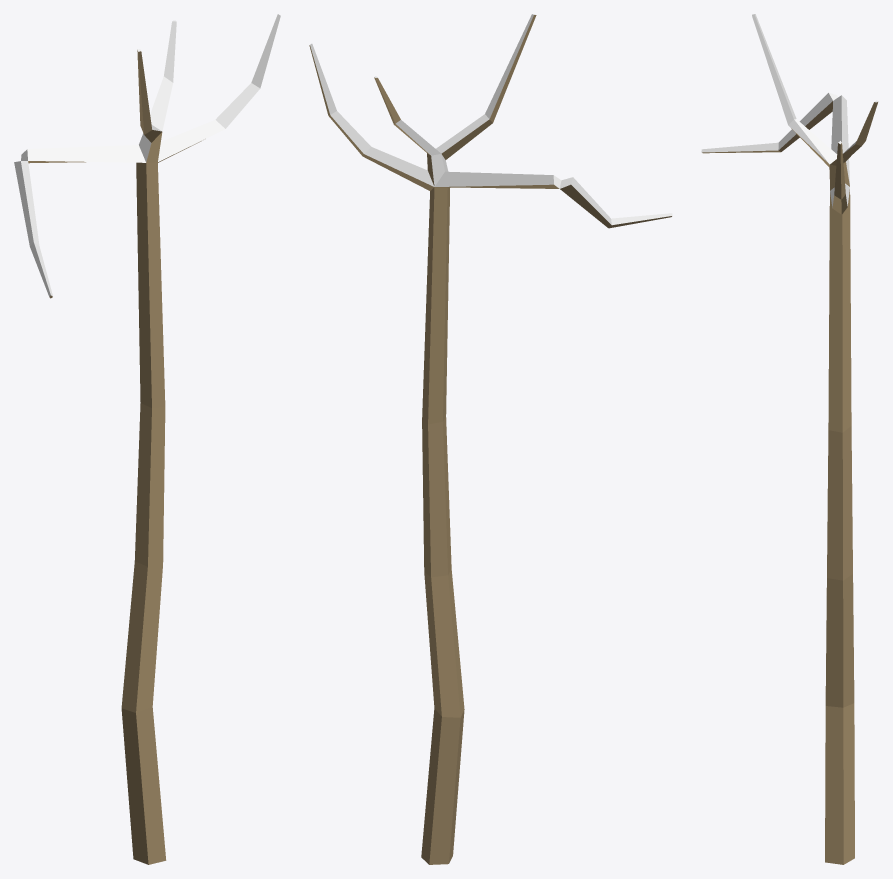
The model's file is Acacia_Tree_NoLeaves_crk_m_Snow_02_LOD.fbx.
The picture shows the model from 3 angles, left to right: view 1: azimuth 30°, elevation 25°; view 2: azimuth 150°, elevation 25°; view 3: azimuth 270°, elevation 25°; orthographic projection. The views are drawn at different scales.
Parts seen in each view (by area): view 1: Acacia_Tree_NoLeaves_crk_m_Snow_02_LOD0; view 2: Acacia_Tree_NoLeaves_crk_m_Snow_02_LOD0; view 3: Acacia_Tree_NoLeaves_crk_m_Snow_02_LOD0.
Part boxes in pixels (x1,y1,x2,y2): Acacia_Tree_NoLeaves_crk_m_Snow_02_LOD0: [14, 14, 280, 864]; Acacia_Tree_NoLeaves_crk_m_Snow_02_LOD0: [309, 14, 672, 864]; Acacia_Tree_NoLeaves_crk_m_Snow_02_LOD0: [701, 14, 878, 864].
Size of what is drawn, in the model's own units: 320 by 860 by 169.
